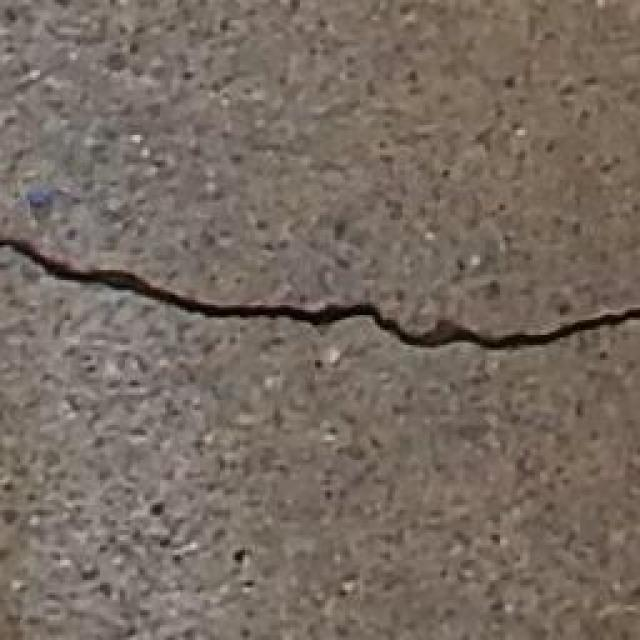concrete-crack: (0, 238, 640, 352)
